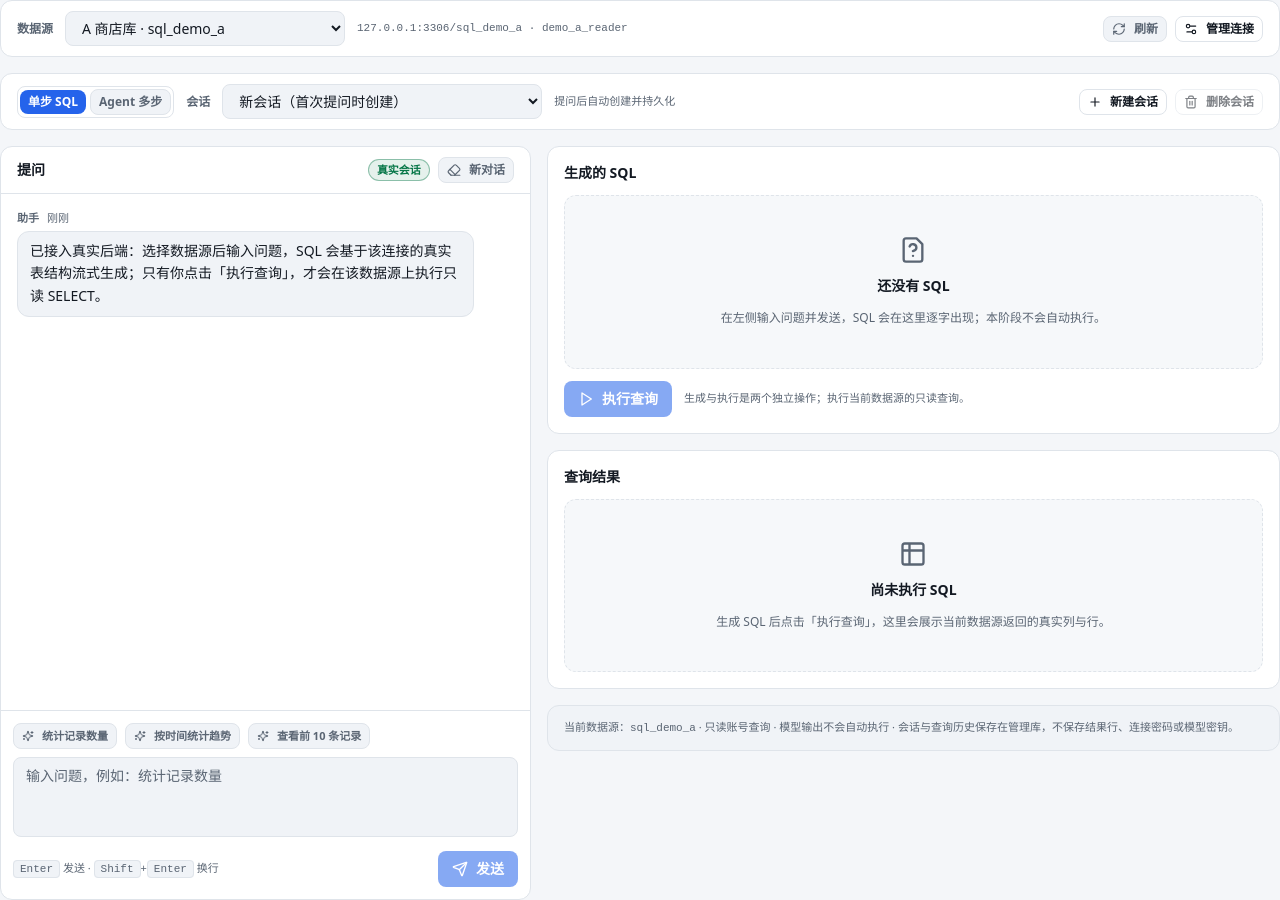
Test: DashboardPage 真实工作台链路 › 空结果集展示零行状态
The image size is (1280, 900).
Expected: the dropdown labelled "数据源" is shown, [65,11,345,46]
Type "统计订单数量" into the text box named "提问内容". click: coordinates (265, 797)
box: [13,757,518,837]
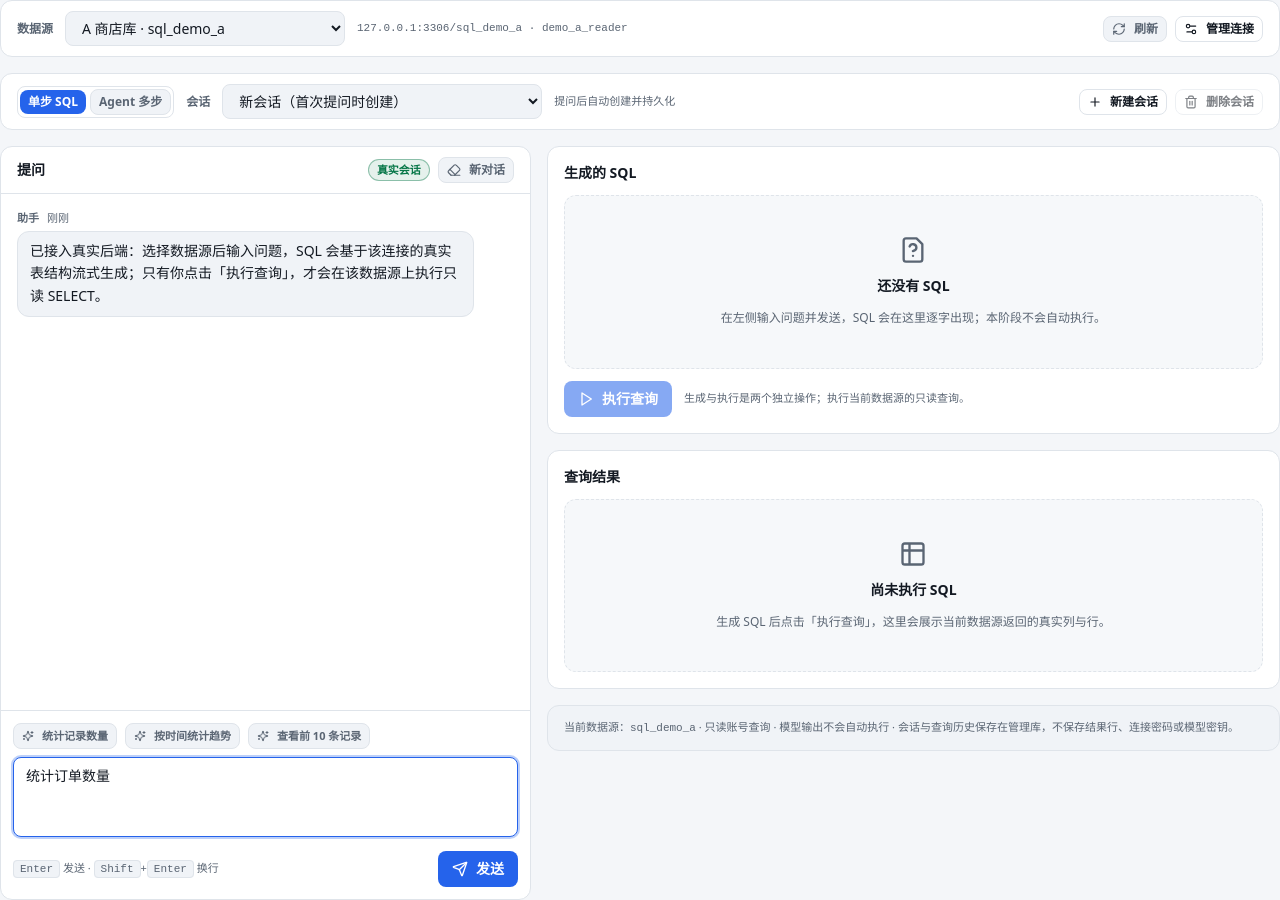
Click the button "发送". click: coordinates (478, 869)
box: [438,851,518,887]
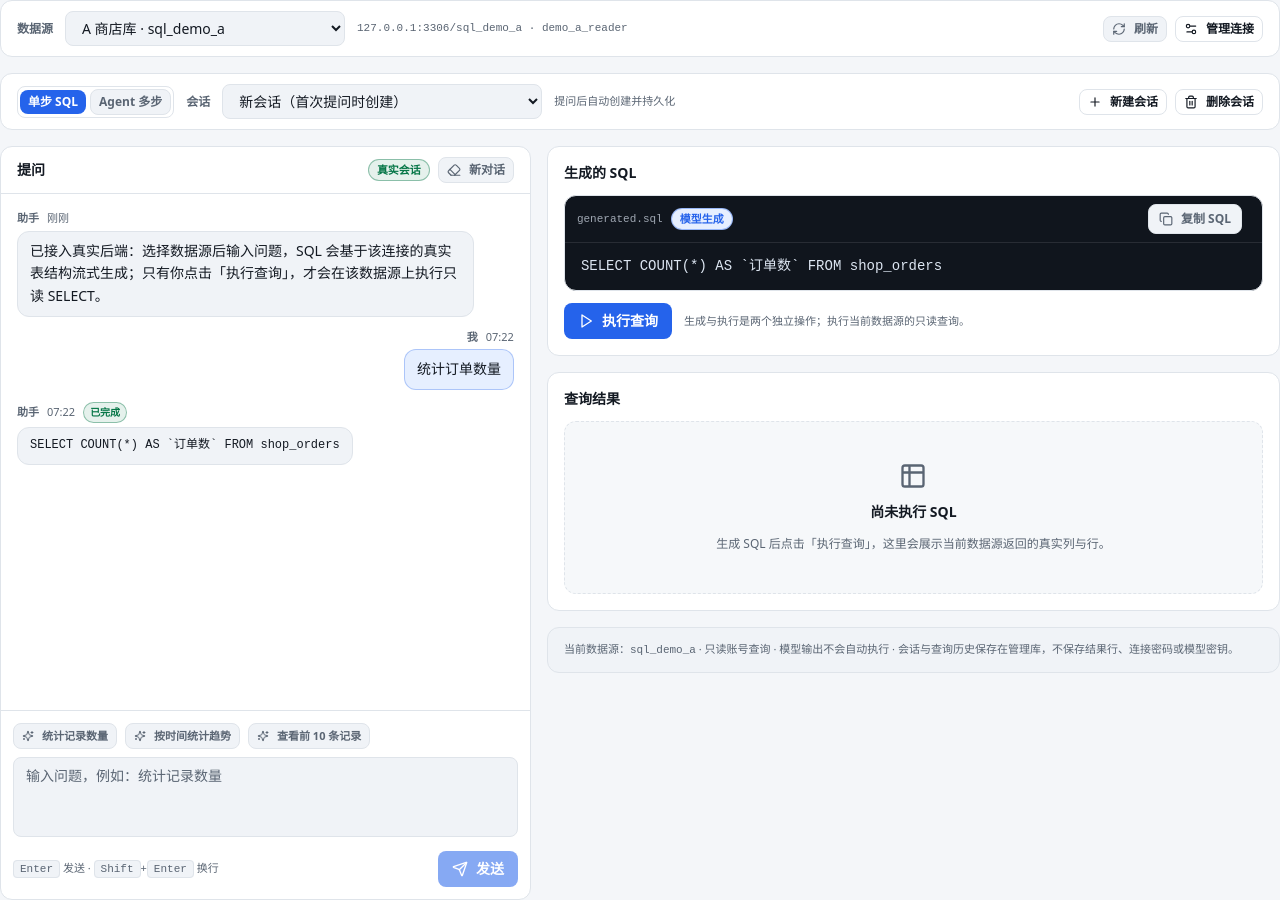
Click the button "执行查询". click: coordinates (618, 321)
box: [564,303,672,339]
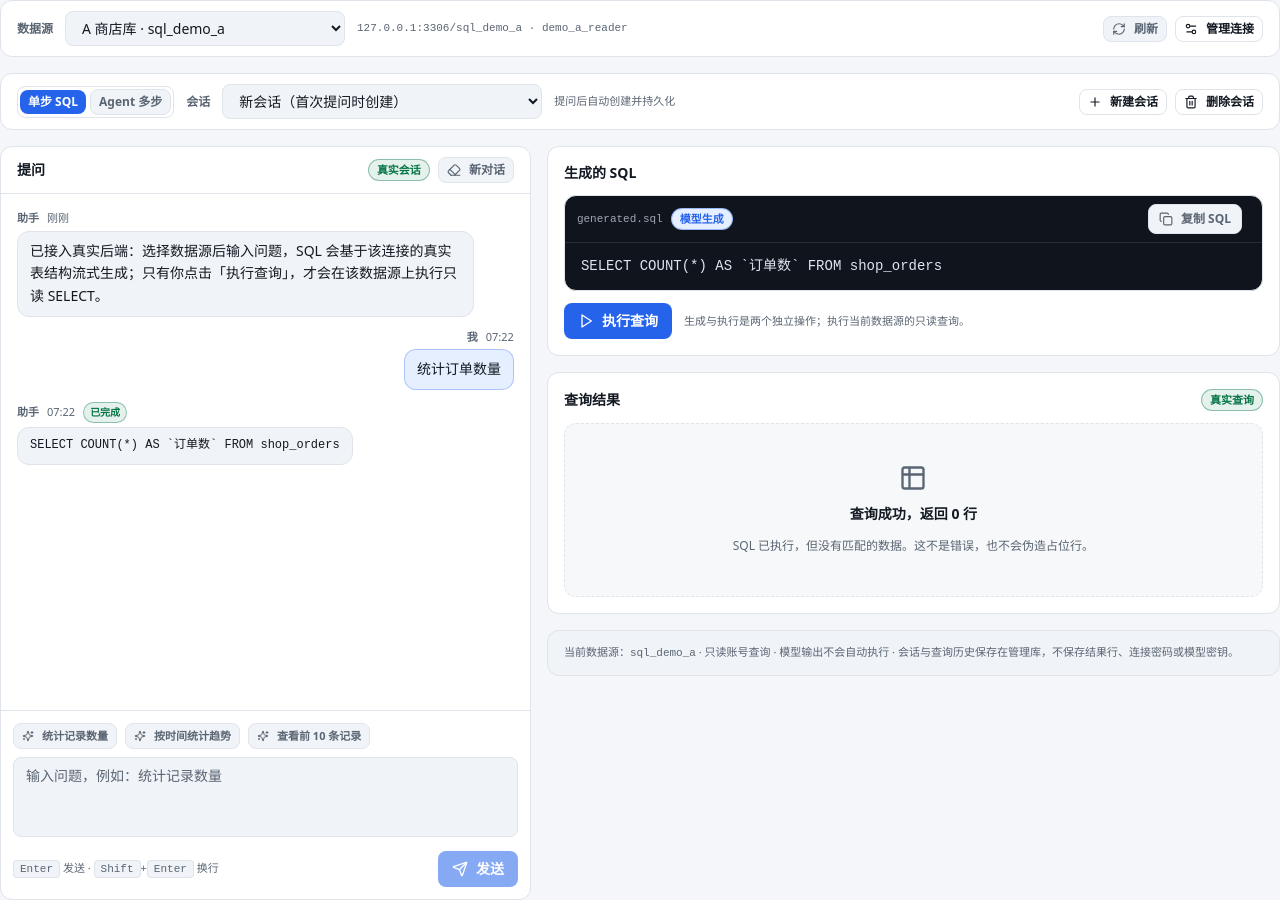
Expected: the text "查询成功，返回 0 行" is shown, [850,504,977,524]
